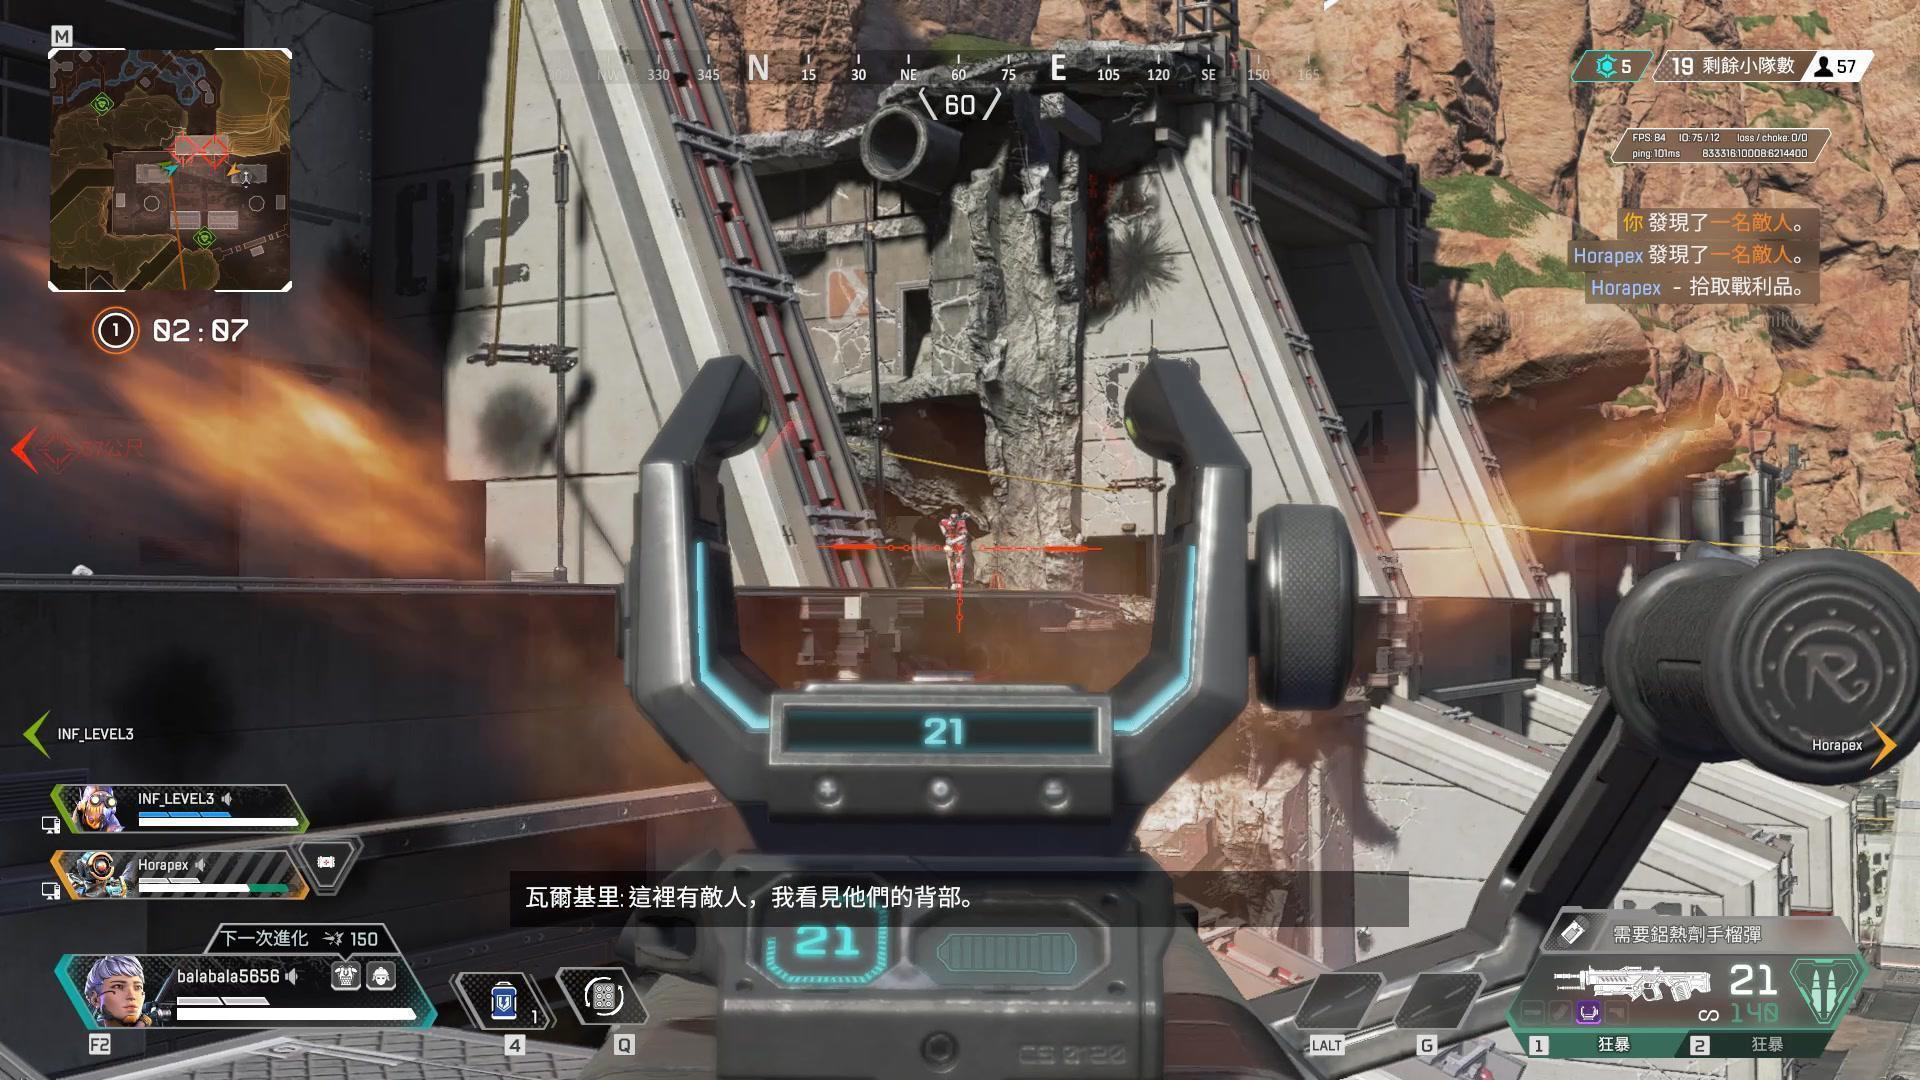avatar: (937, 508, 969, 589)
